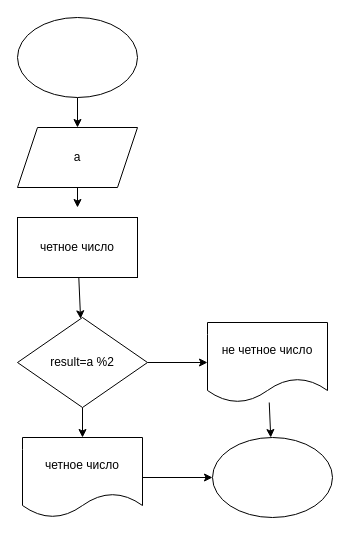
The diagram is 350 pixels wide and 535 high, and some of its shapes have lost their labels. The centre of each missing label's shape, as x and y in pixels:
end: pixel 272 477
start: pixel 77 57
